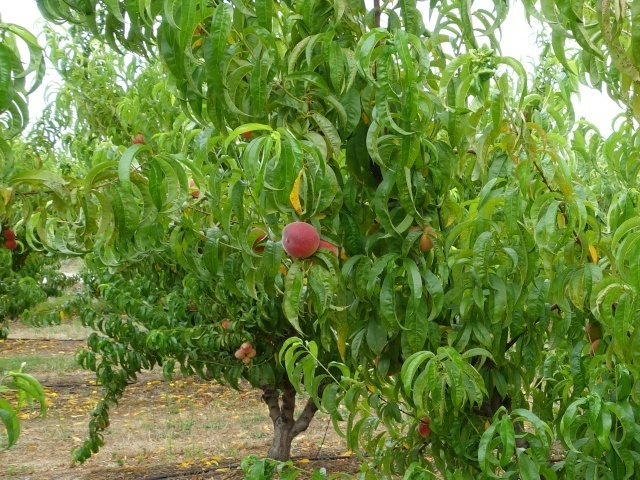peach: (277, 219, 323, 261), (309, 230, 343, 267), (405, 220, 441, 253), (413, 413, 438, 438)
